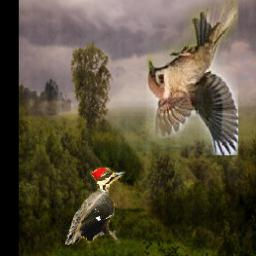Sparrow: (147, 1, 239, 156)
Woodpecker: (66, 169, 127, 246)
